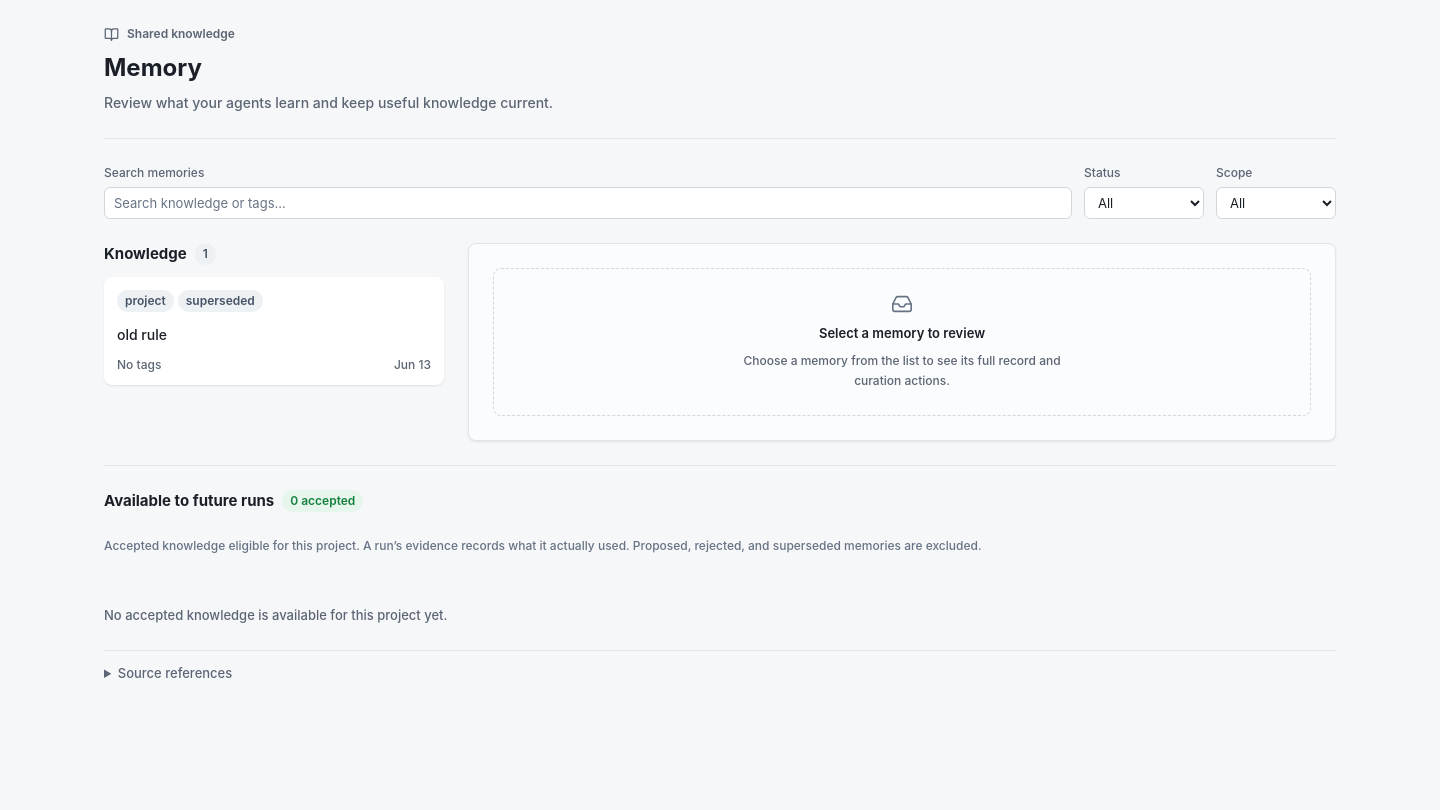
Scenario: MemoryPage › shows provenance and supersession in the detail
Step 1. Click the text "old rule" → (142, 335), box [117,324,167,345]
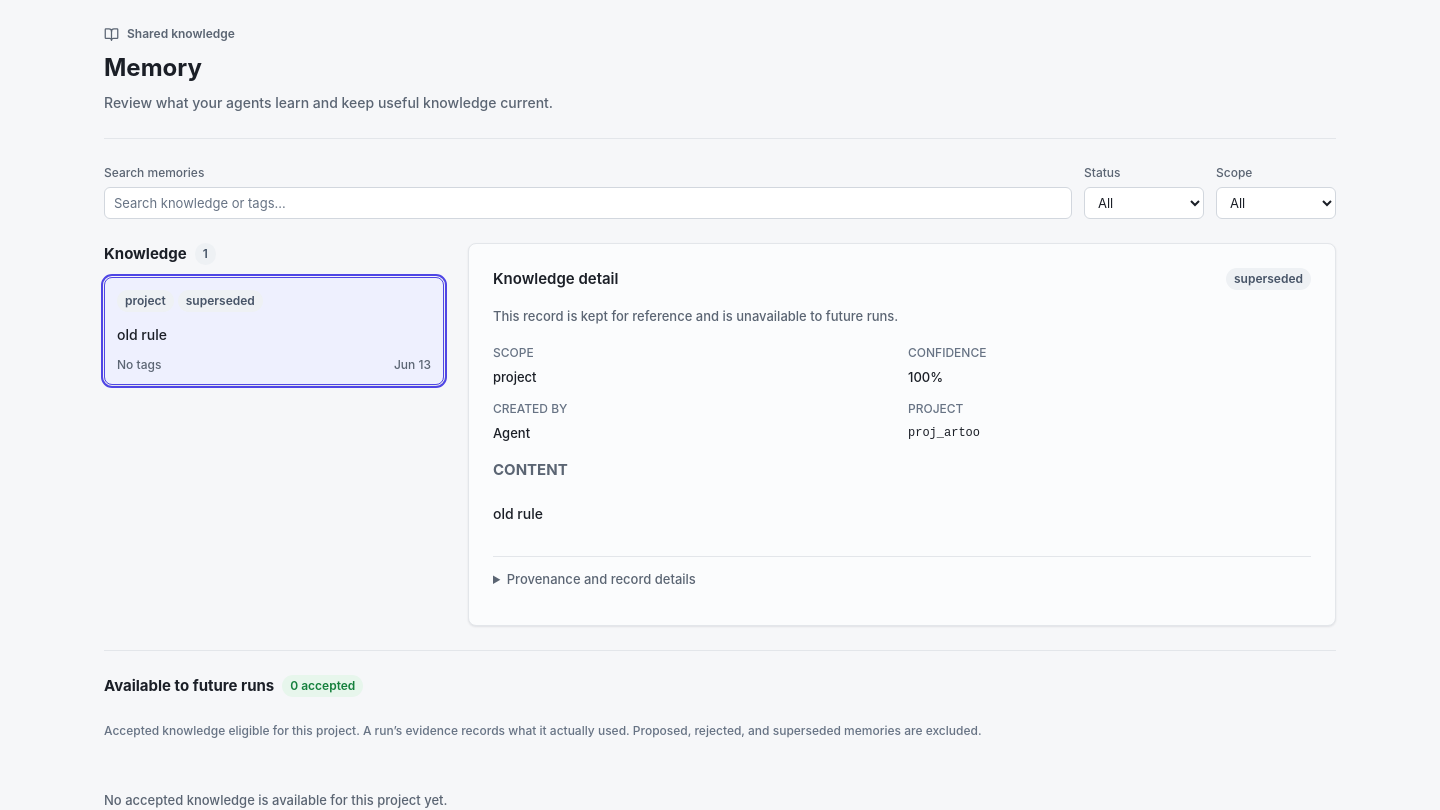
Step 2. Click the heading "Provenance and record details" → (601, 579), box [507,571,696,587]
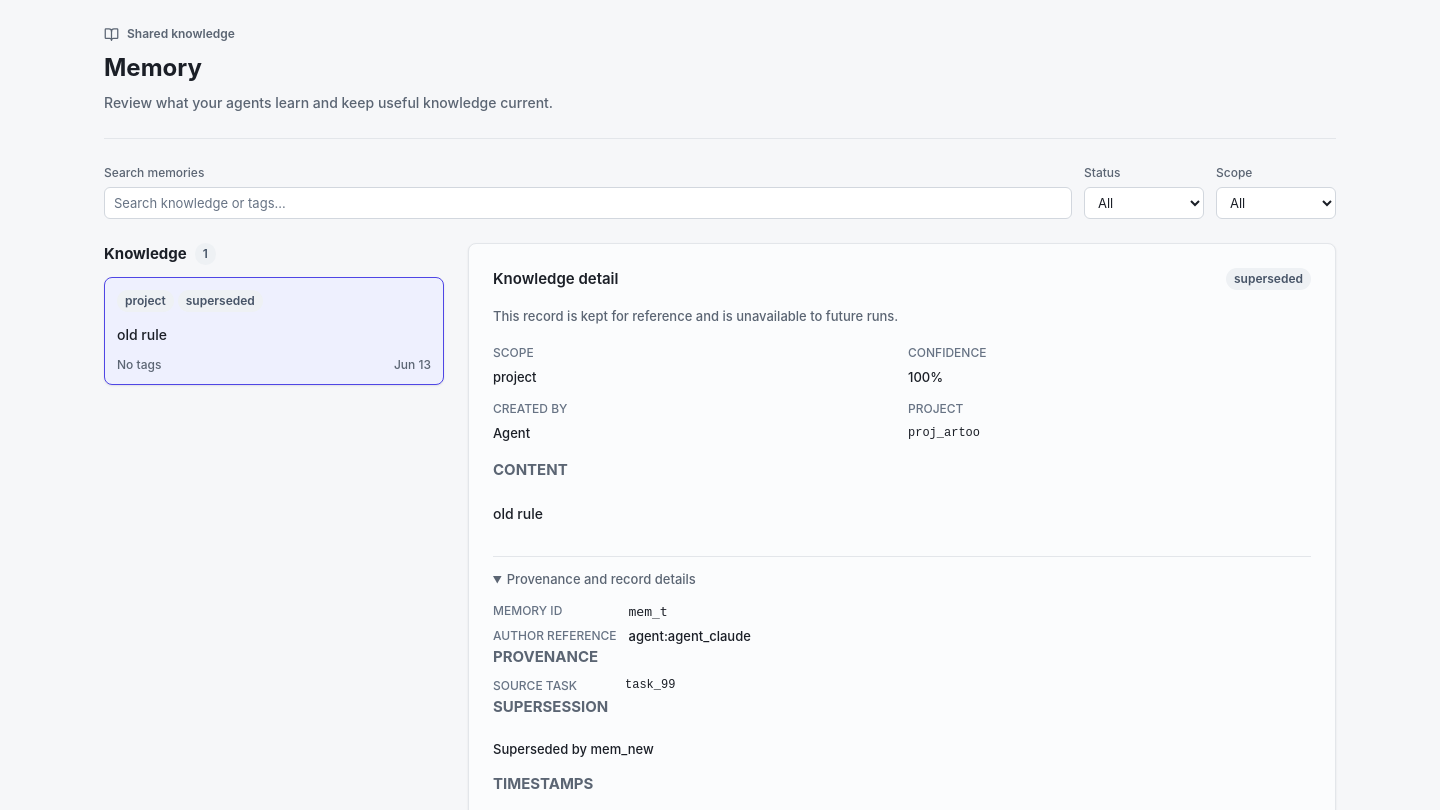
Check: the text "task_99" is shown, box [625,678,675,692]
Check: the text "Superseded by mem_new" is shown, box [493,741,654,757]
